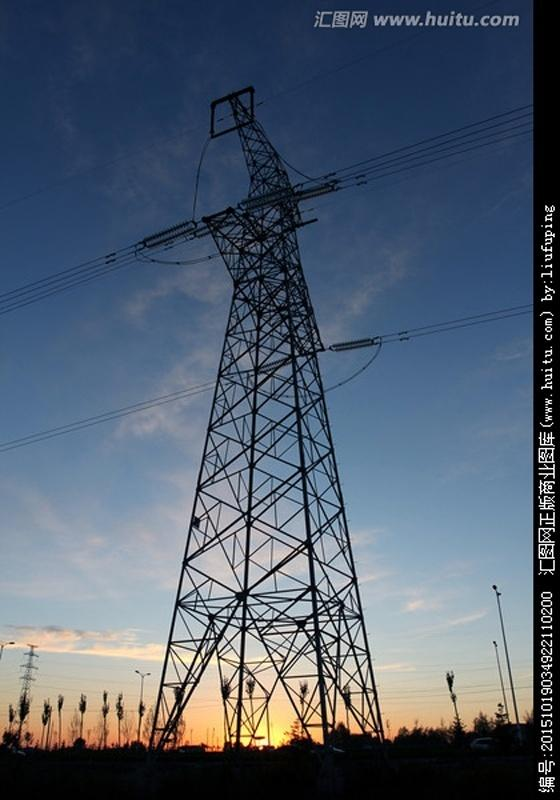power_tower: (161, 87, 421, 731)
